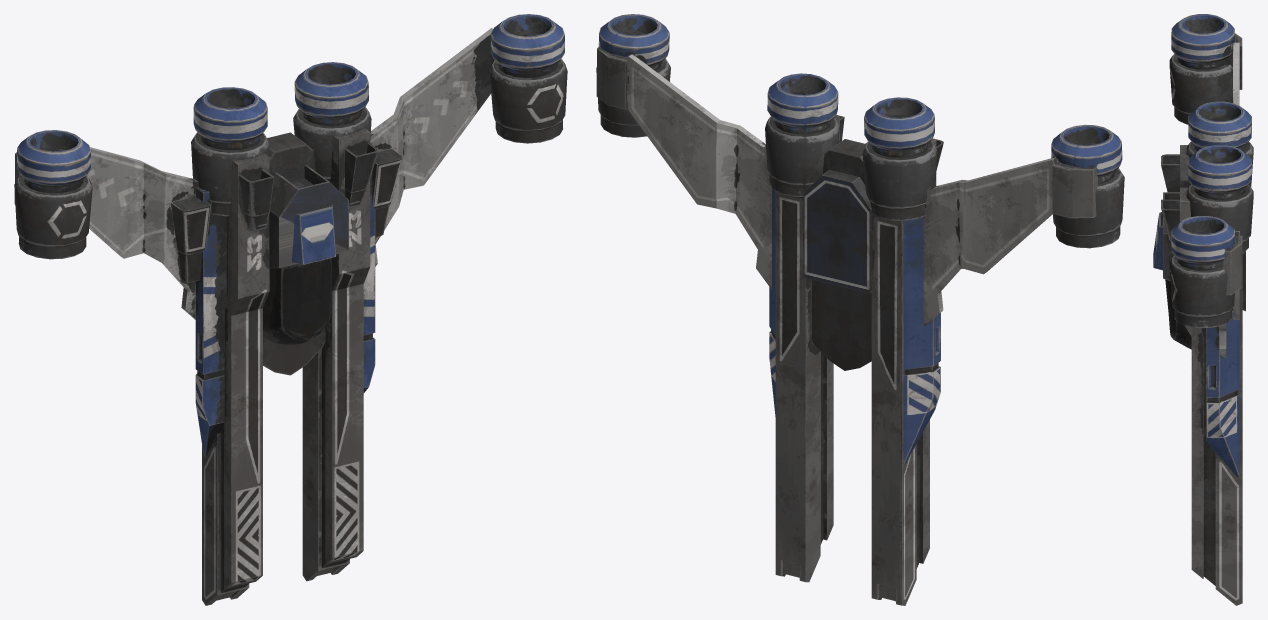
Rendered from sky-leviathan.glb.
The picture shows the model from 3 angles, left to right: view 1: azimuth 30°, elevation 25°; view 2: azimuth 150°, elevation 25°; view 3: azimuth 270°, elevation 25°; orthographic projection. The views are drawn at different scales.
Parts seen in each view (by area): view 1: Executioner; view 2: Executioner; view 3: Executioner.
Boxes of the visible parts, x1,y1,x2,y2 form: Executioner: [14, 14, 567, 605]; Executioner: [596, 14, 1124, 605]; Executioner: [1153, 14, 1253, 605].
Size of the model in its own units: 10.02 by 9.2 by 1.85.
1 material, 1 textured.
